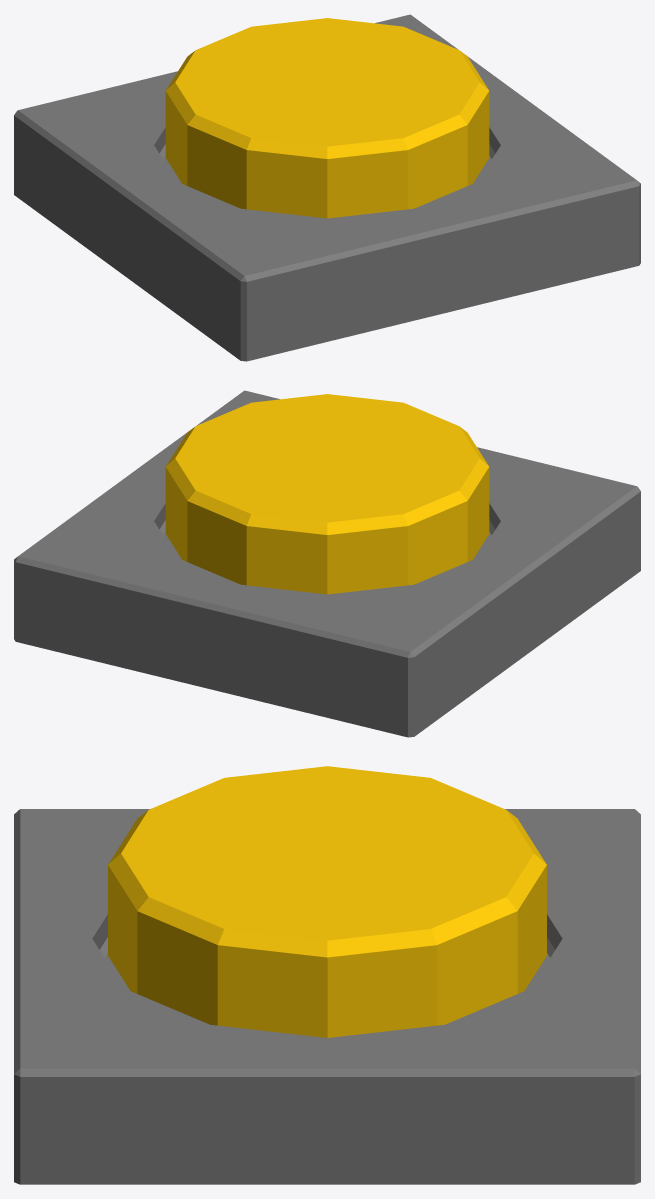
The model's file is HJD_FP_button00.fbx.
3 views of the same model, one above another, from view 1: azimuth 30°, elevation 25°; view 2: azimuth 150°, elevation 25°; view 3: azimuth 270°, elevation 25° (orthographic). The views are drawn at different scales.
Parts seen in each view (by area): view 1: button_base, button_cap; view 2: button_base, button_cap; view 3: button_base, button_cap.
Boxes of the visible parts, <box> form: button_base: <box>14,14,640,361</box>; button_cap: <box>165,18,489,218</box>; button_base: <box>14,390,640,737</box>; button_cap: <box>165,394,489,594</box>; button_base: <box>14,809,640,1184</box>; button_cap: <box>108,766,546,1037</box>.
Size of the model in its own units: 100 by 35 by 100.
